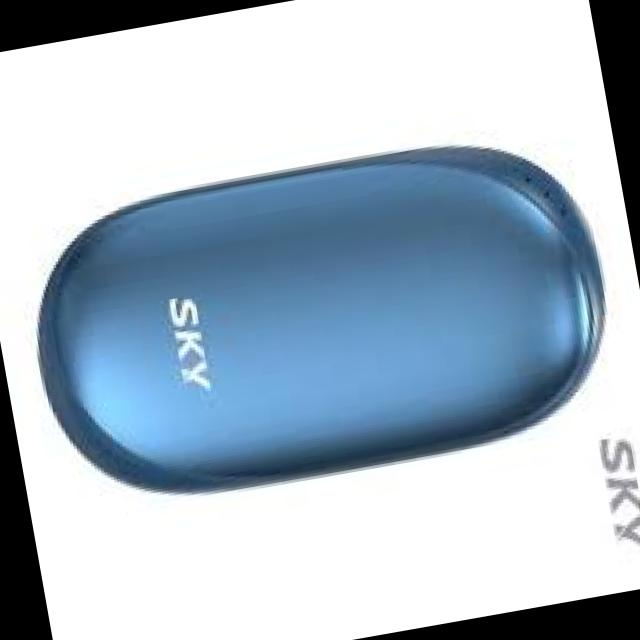power_bank: (16, 120, 630, 522)
